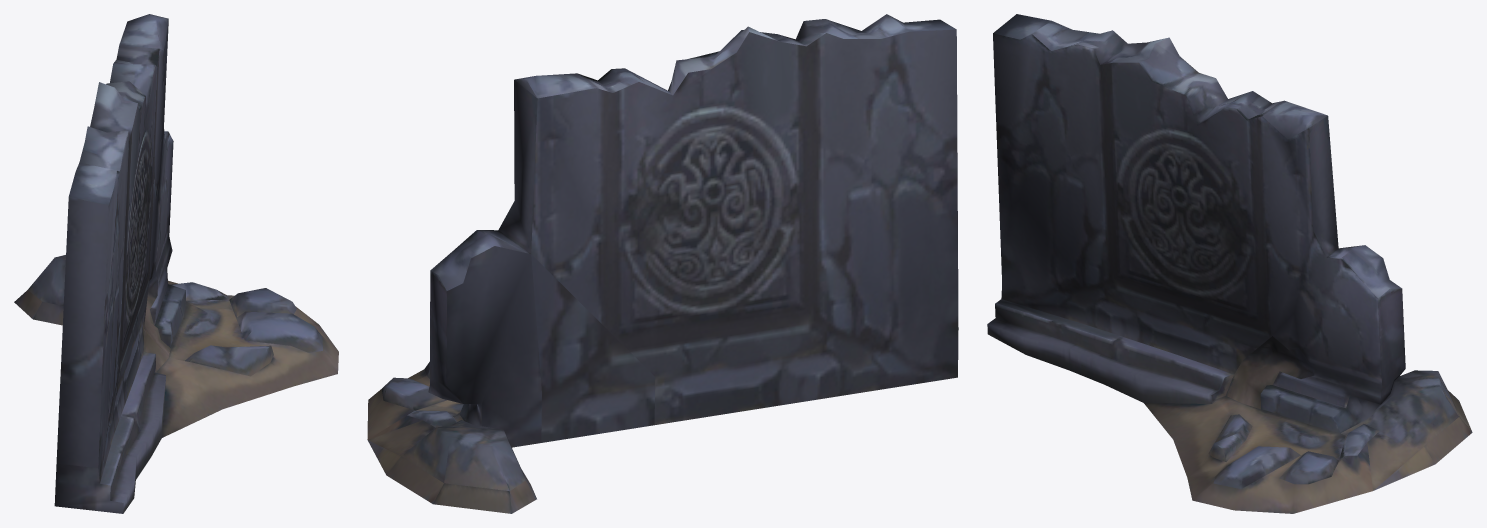
Rendered from Bedaying_poqiang.FBX.
The picture shows the model from 3 angles, left to right: view 1: azimuth 30°, elevation 25°; view 2: azimuth 150°, elevation 25°; view 3: azimuth 270°, elevation 25°; orthographic projection. The views are drawn at different scales.
Parts seen in each view (by area): view 1: Bedaying_poqiang; view 2: Bedaying_poqiang; view 3: Bedaying_poqiang.
Part boxes in pixels (x1,y1,x2,y2): Bedaying_poqiang: (14,14,338,513); Bedaying_poqiang: (367,14,958,513); Bedaying_poqiang: (987,14,1472,513).
Size of the model in its own units: 208 by 227 by 178.
